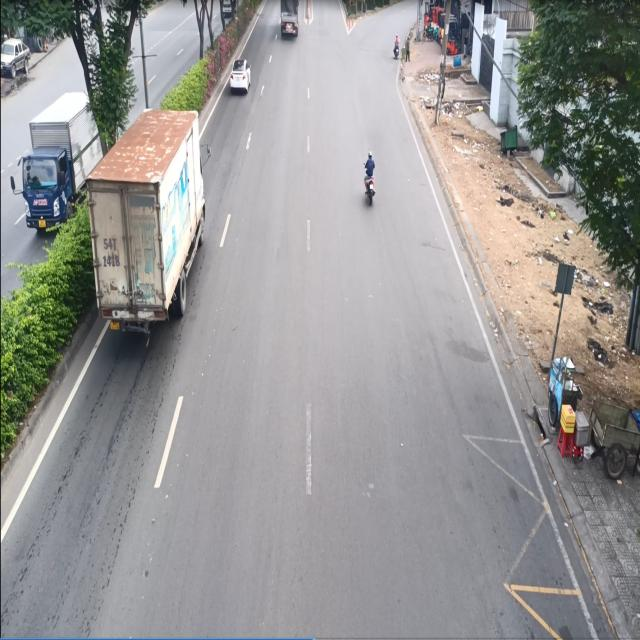car: (226, 46, 254, 98)
motor: (360, 144, 378, 208)
truck: (86, 102, 210, 341)
